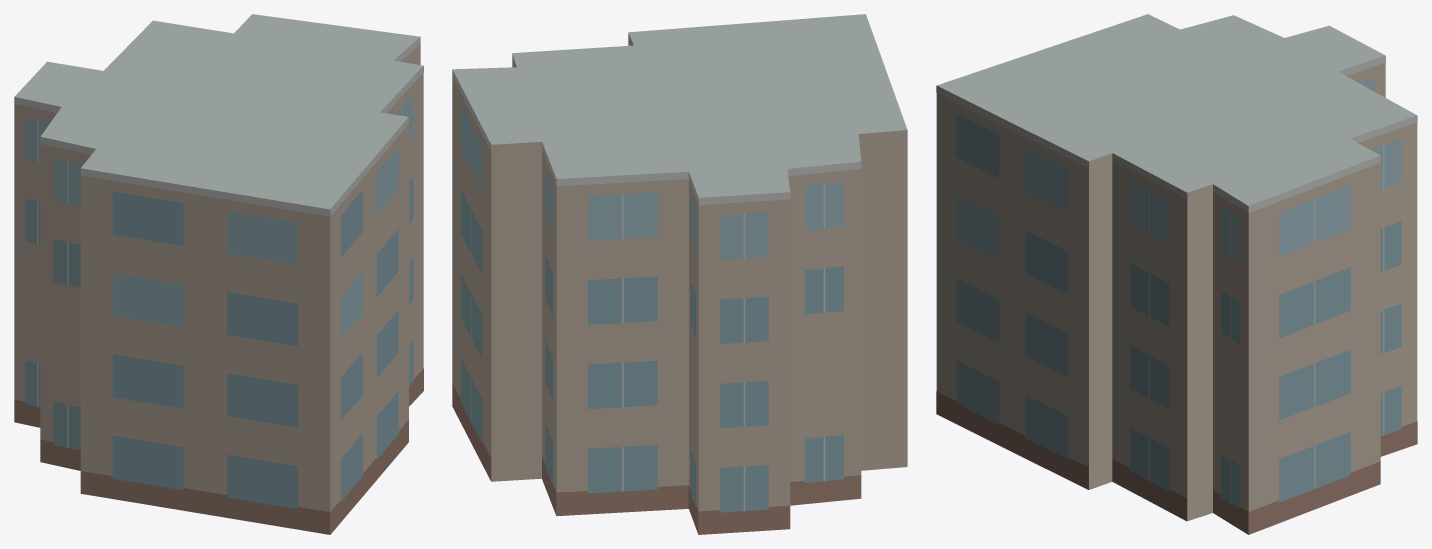
File: survey-upis-32586208.glb
The picture shows the model from 3 angles, left to right: view 1: azimuth 30°, elevation 25°; view 2: azimuth 150°, elevation 25°; view 3: azimuth 270°, elevation 25°; orthographic projection. The views are drawn at different scales.
Parts seen in each view (by area): view 1: survey-upis-32586208.tmp; view 2: survey-upis-32586208.tmp; view 3: survey-upis-32586208.tmp.
Boxes of the visible parts, box(x1,y1,x2,y2) form: survey-upis-32586208.tmp: box(14, 14, 423, 534); survey-upis-32586208.tmp: box(452, 14, 907, 534); survey-upis-32586208.tmp: box(936, 14, 1417, 534).
Size of the model in its own units: 14.11 by 11.25 by 14.92.
